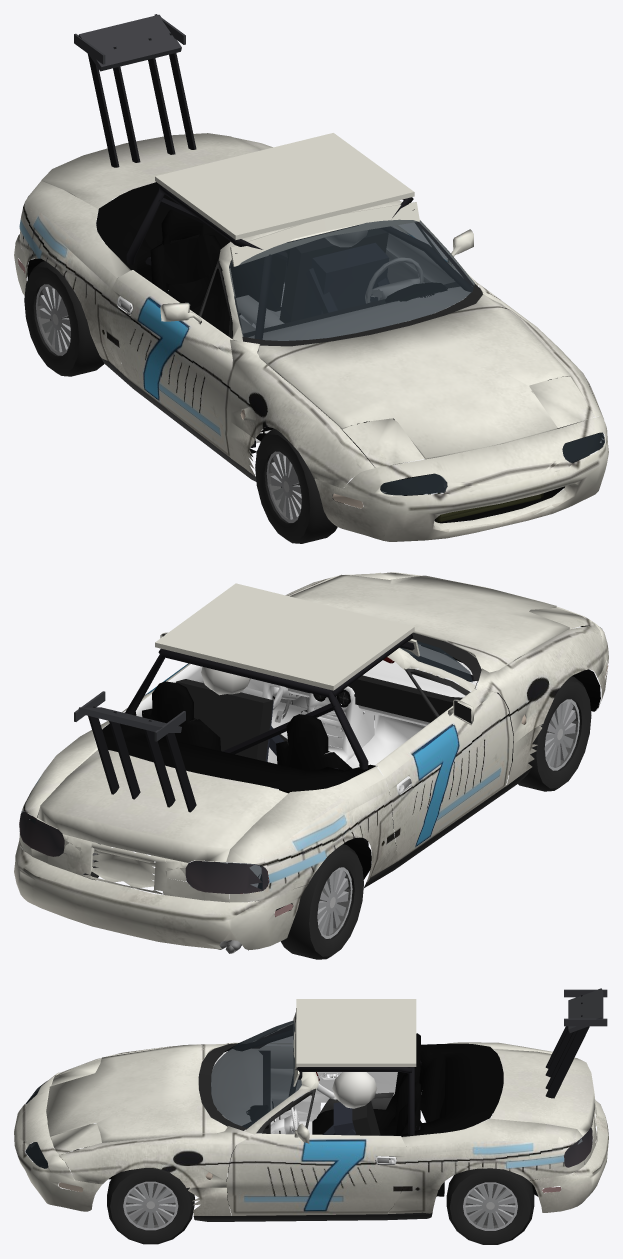
3 views of the same model, one above another, from view 1: azimuth 30°, elevation 25°; view 2: azimuth 150°, elevation 25°; view 3: azimuth 270°, elevation 25° (orthographic). The views are drawn at different scales.
Parts seen in each view (by area): view 1: body, wheel_rr, wheel_fr; view 2: body, wheel_rr, wheel_fr; view 3: body, wheel_rl, wheel_fl.
Boxes of the visible parts, box(x1,y1,x2,y2) form: body: box(14, 14, 608, 541); wheel_rr: box(24, 261, 104, 376); wheel_fr: box(255, 428, 343, 543); body: box(14, 572, 608, 953); wheel_rr: box(275, 844, 363, 959); wheel_fr: box(508, 676, 591, 791); body: box(14, 988, 608, 1221); wheel_rl: box(446, 1168, 534, 1244); wheel_fl: box(107, 1168, 194, 1244).
Bounding box in the file's own units: 1.78 × 1.41 × 3.97.
2 materials, 1 textured.
